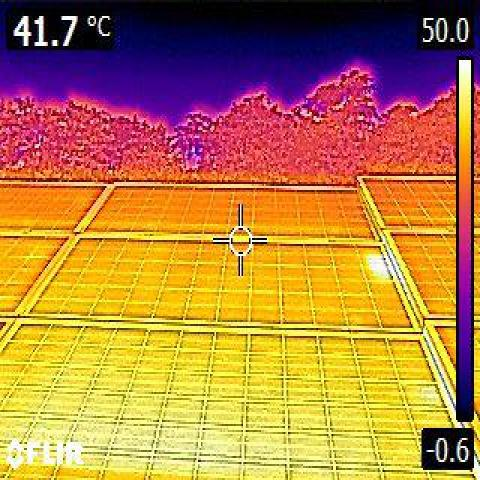fault: (372, 256, 390, 282)
